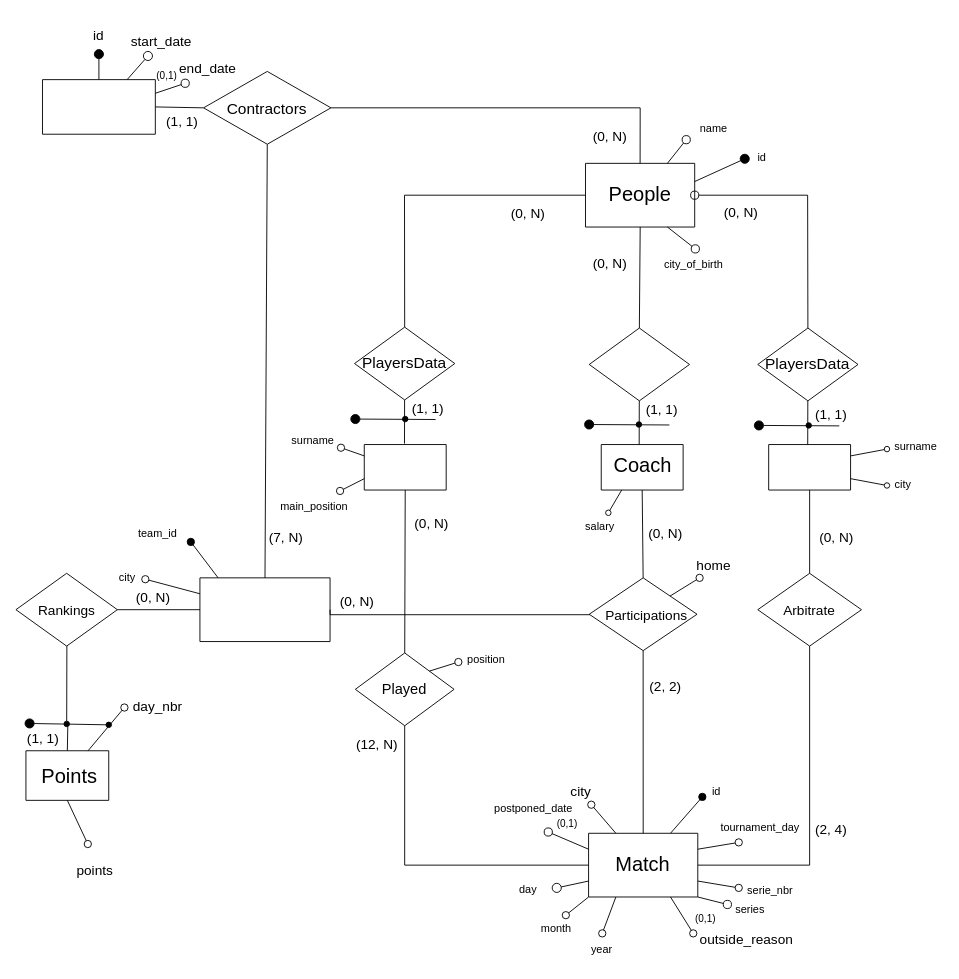
The diagram is 959 pixels wide and 979 high, and some of its shapes have lost their labels. Here are the shapes that lost their labels. From the top down, the centre of each, then its label:
At point (98, 106): "Contract".
At point (639, 364): "CoachesData".
At point (404, 467): "Player".
At point (809, 467): "Referee".
At point (264, 609): "Team".
